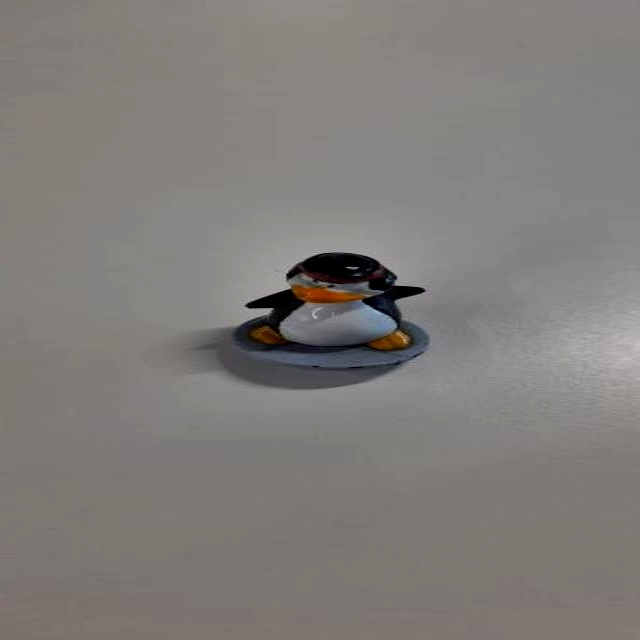Penguin: (206, 248, 440, 386)
